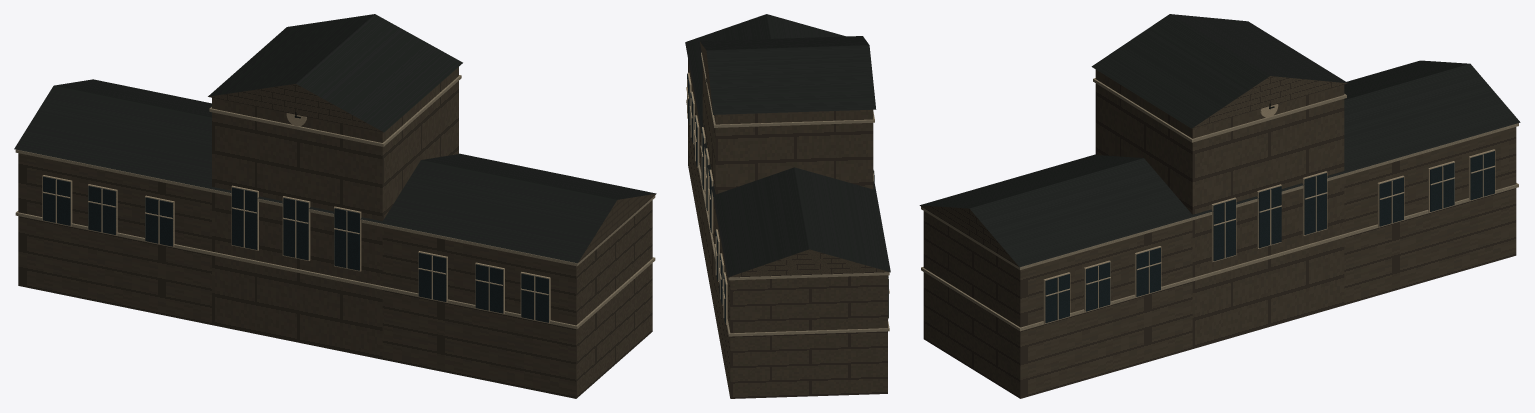
The picture shows the model from 3 angles, left to right: view 1: azimuth 30°, elevation 25°; view 2: azimuth 150°, elevation 25°; view 3: azimuth 270°, elevation 25°; orthographic projection. The views are drawn at different scales.
Visible parts, largest first — view 1: station-beurs-2, station-beurs-3, station-beurs-4, station-beurs-5, station-beurs-0; view 2: station-beurs-2, station-beurs-3, station-beurs-5, station-beurs-0, station-beurs-4; view 3: station-beurs-2, station-beurs-3, station-beurs-4, station-beurs-5, station-beurs-0.
Part boxes in pixels (x1,y1,x2,y2): station-beurs-2: [18, 67, 656, 398]; station-beurs-3: [14, 14, 655, 263]; station-beurs-4: [43, 176, 548, 322]; station-beurs-5: [15, 75, 655, 329]; station-beurs-0: [42, 113, 550, 323]; station-beurs-2: [688, 42, 889, 398]; station-beurs-3: [685, 14, 890, 277]; station-beurs-5: [686, 52, 889, 336]; station-beurs-0: [686, 72, 889, 324]; station-beurs-4: [687, 73, 888, 323]; station-beurs-2: [919, 69, 1516, 398]; station-beurs-3: [920, 14, 1520, 267]; station-beurs-4: [1045, 151, 1494, 323]; station-beurs-5: [921, 78, 1518, 331]; station-beurs-0: [1043, 104, 1495, 323].
Size of the model in its own units: 39.92 by 22.7 by 49.04.
Materials: 6 (6 with a texture image).
